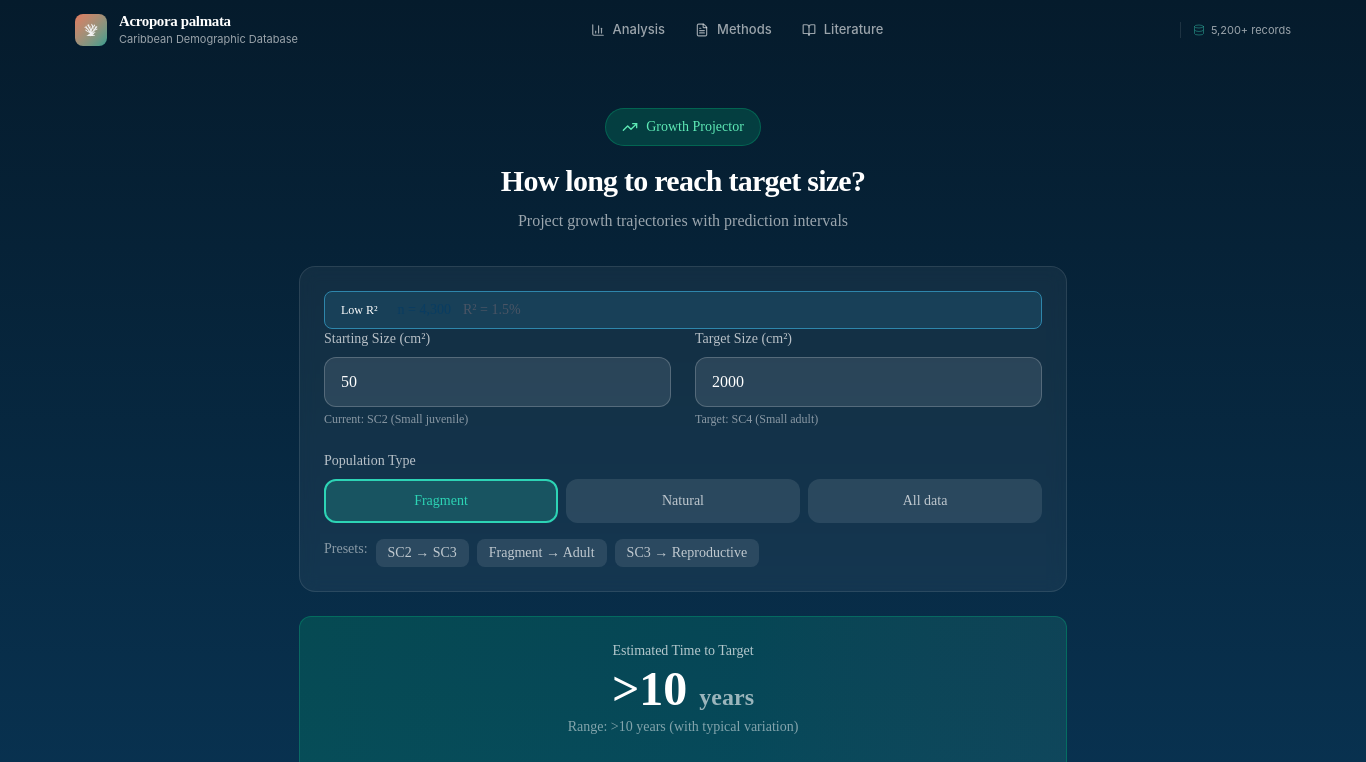
it: GrowthTool › negative growth handling › shows warning when negative growth data exists
Replace the text in the number field labelled "Starting Size (cm²)" with "3000" at (498, 382), box [324,356,671,406]
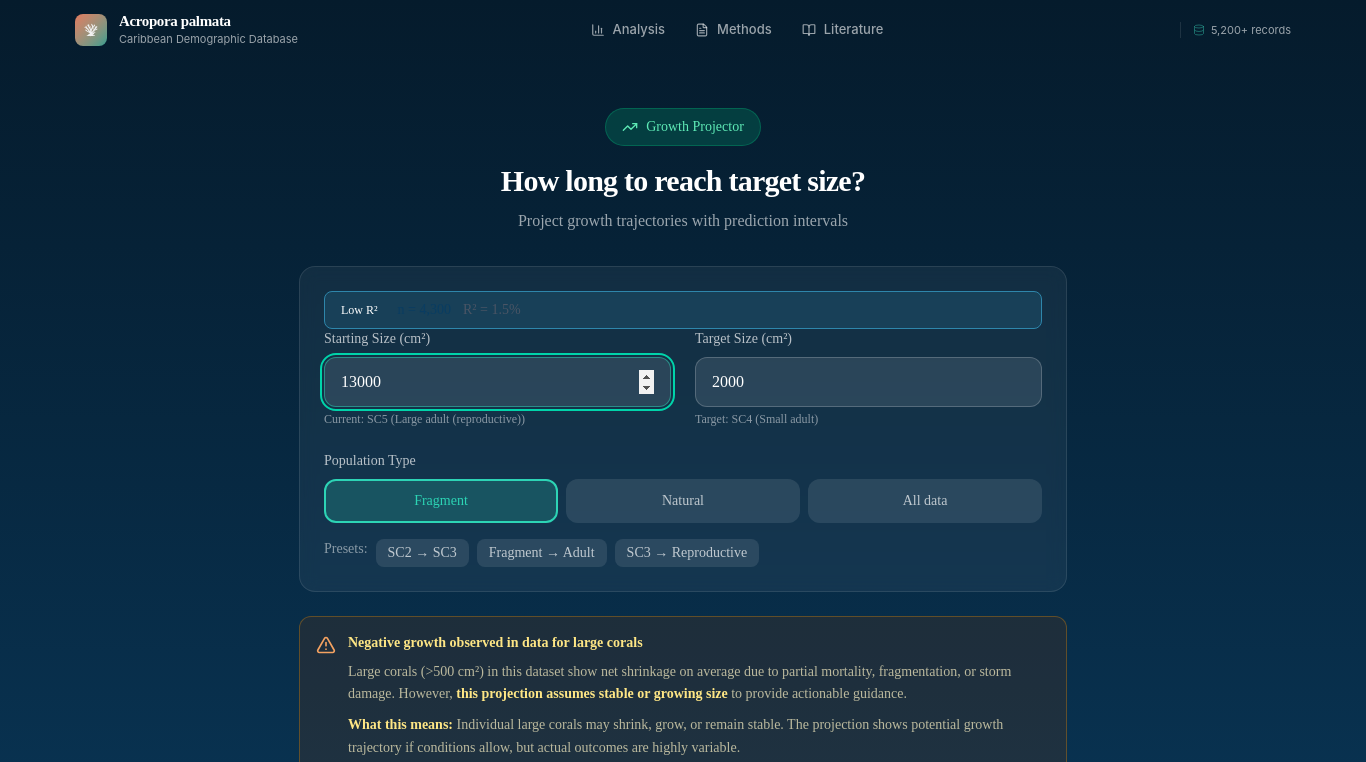
expect the heading "Negative growth observed in data for large corals" is shown: met, box [348,634,643,650]
